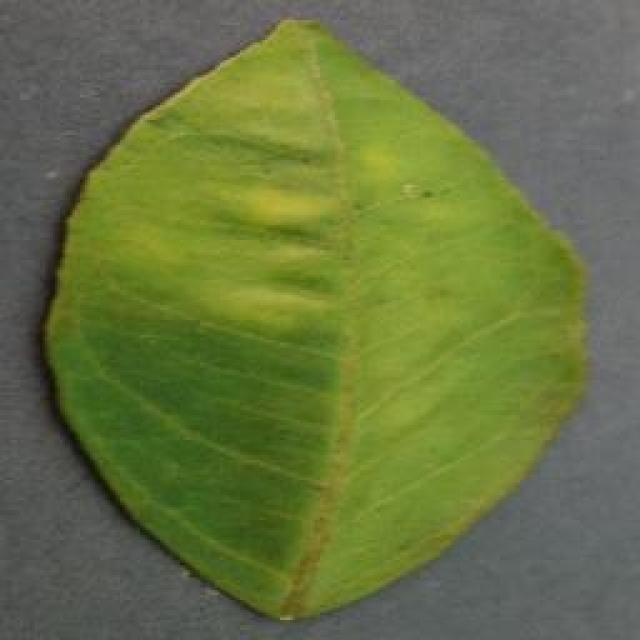Orange_Haunglongbing_Citrus_greening: (108, 102, 542, 548)
